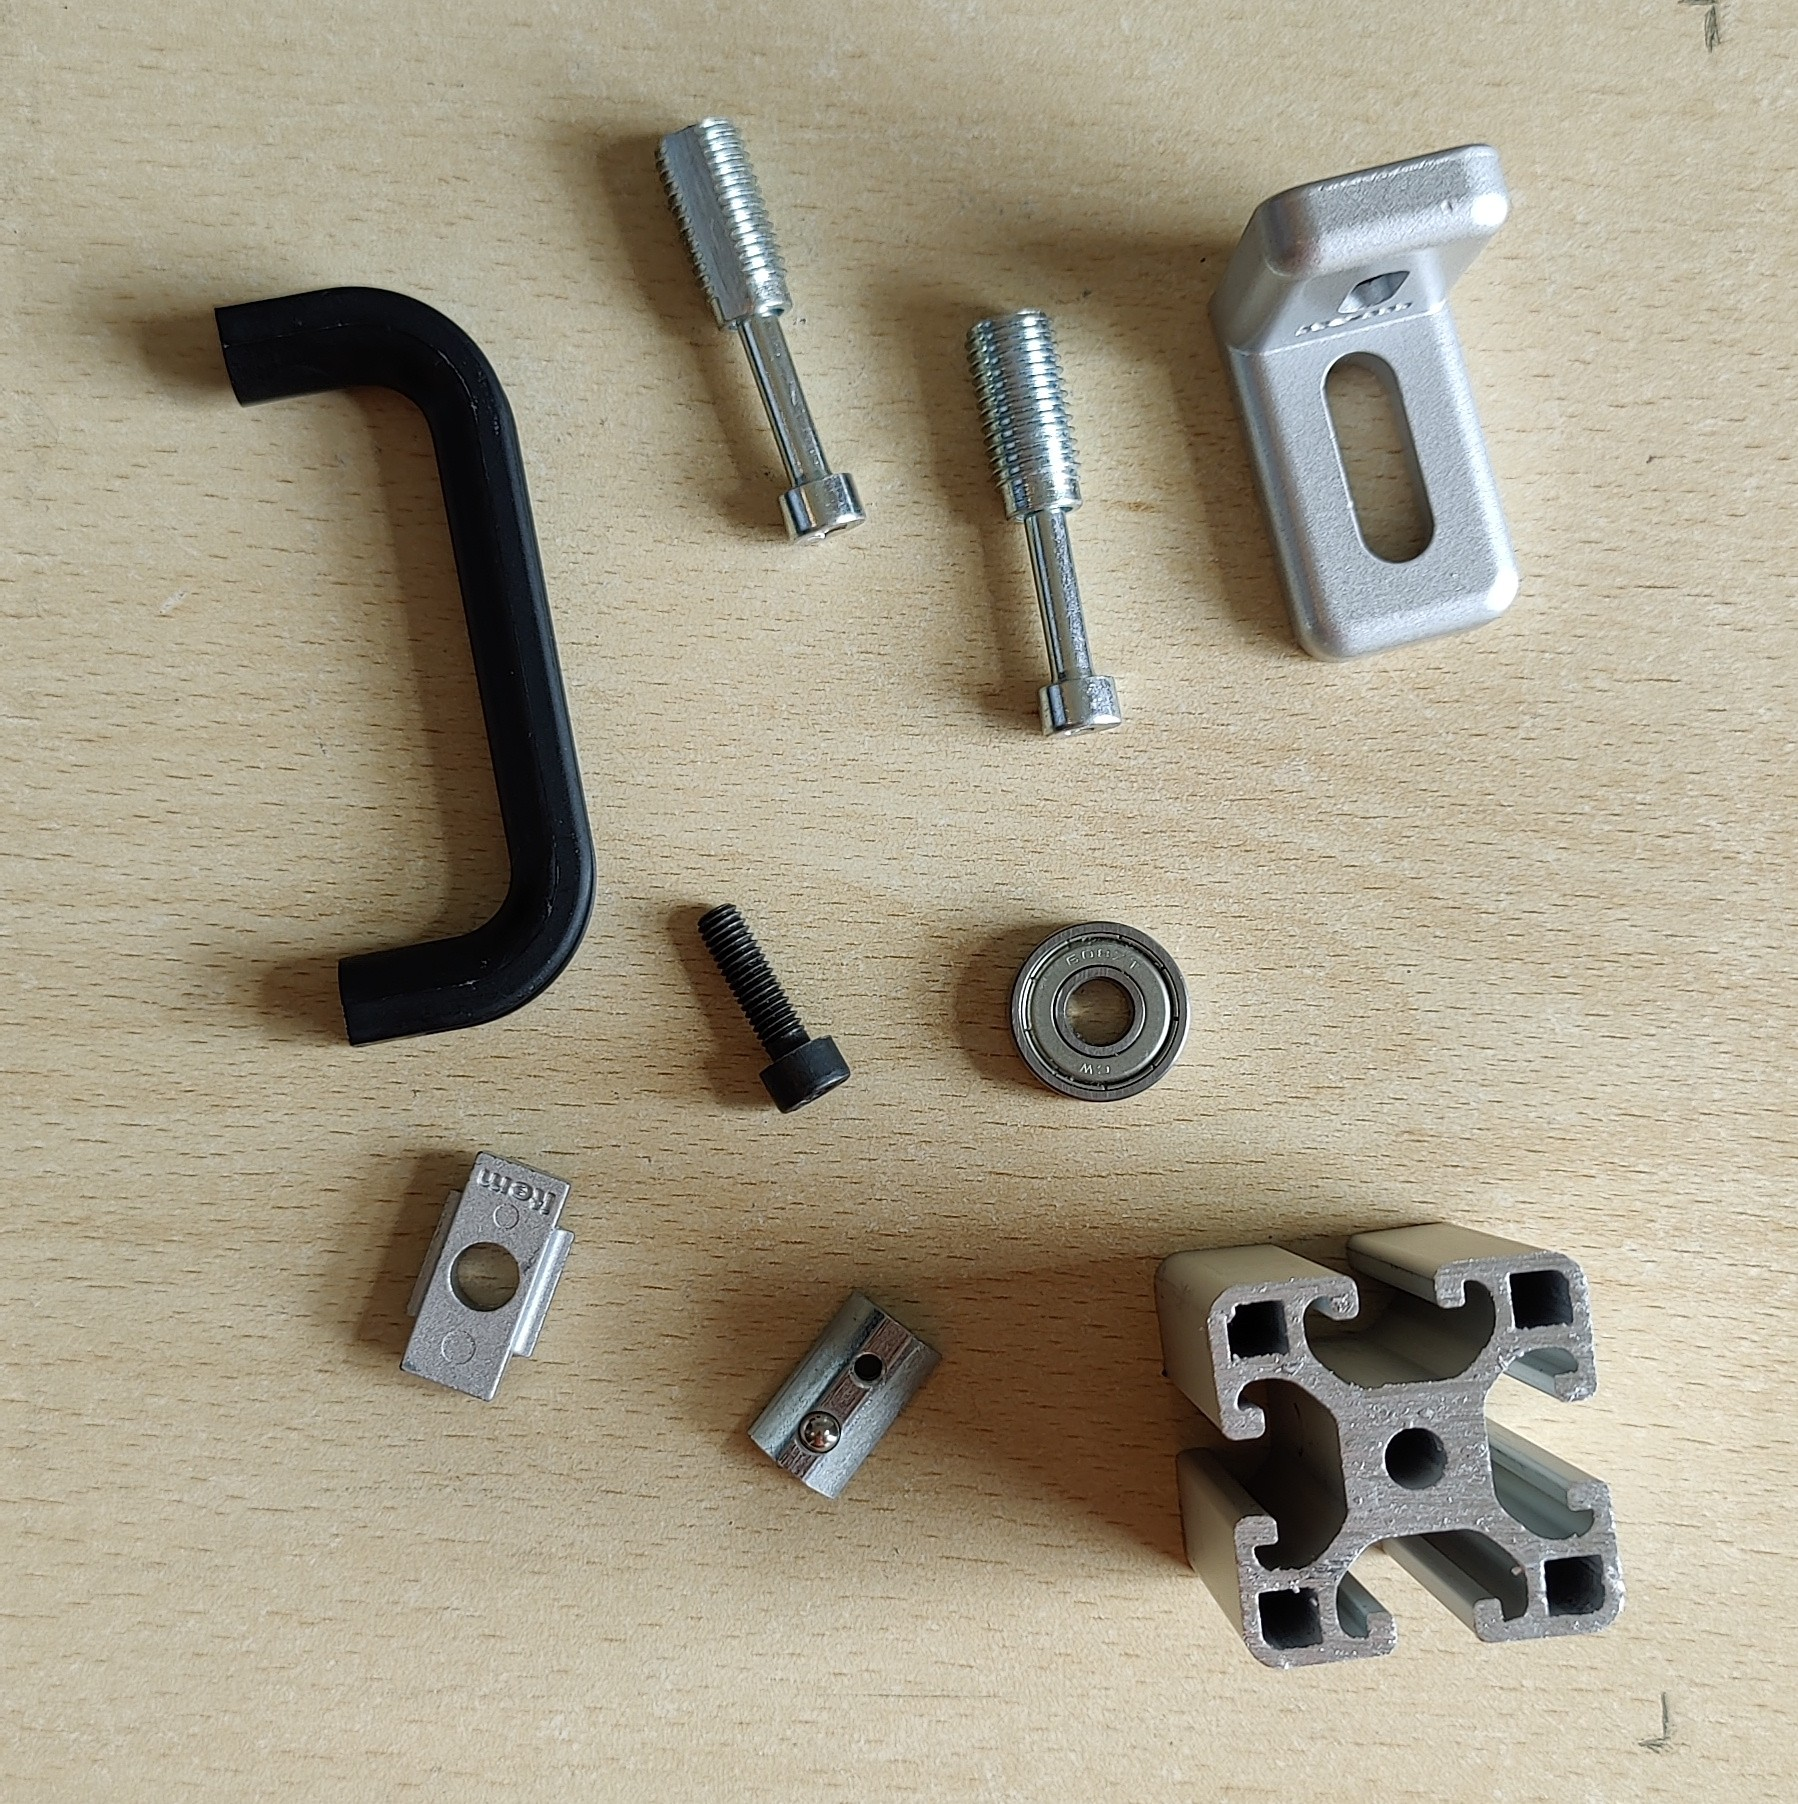Aluminium Extension: (1151, 1221, 1627, 1671)
Ball Bearing: (1006, 918, 1190, 1103)
Multiwinkel: (1205, 140, 1525, 667)
Pull Handle: (209, 281, 599, 1048)
Shoulder Socket Head Cap Screw: (650, 110, 869, 551), (963, 305, 1125, 744)
Socket Head Cap Screw: (693, 899, 851, 1114)
T Nut Square: (397, 1146, 578, 1401)
T Spring Nut: (744, 1286, 943, 1504)
